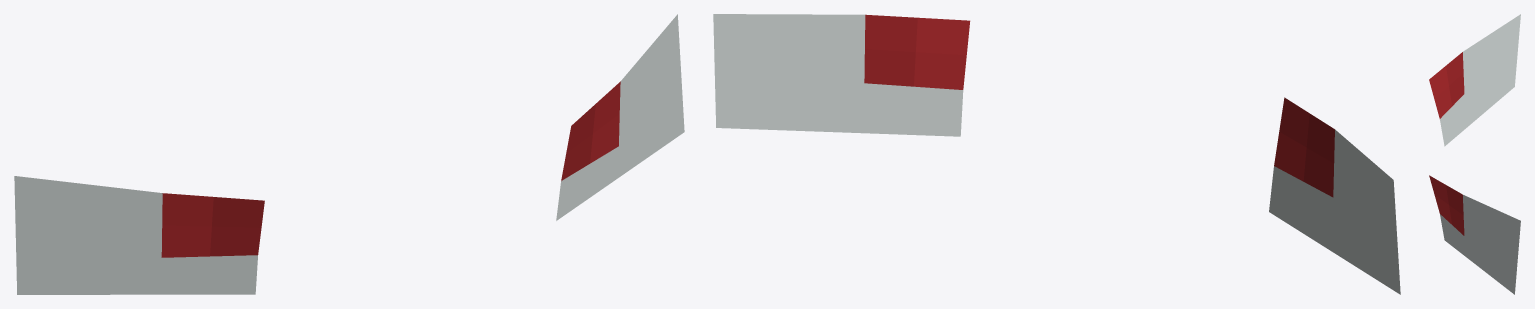
File: yeux_07.fbx
3 views of the same model, side by side, from view 1: azimuth 30°, elevation 25°; view 2: azimuth 150°, elevation 25°; view 3: azimuth 270°, elevation 25° (orthographic). The views are drawn at different scales.
Visible parts, largest first — view 1: Cube.001; view 2: Cube.001; view 3: Cube.001.
Boxes of the visible parts, x1,y1,x2,y2 form: Cube.001: [14, 14, 684, 294]; Cube.001: [713, 14, 1400, 294]; Cube.001: [1429, 14, 1520, 294].
Size of the model in its own units: 114 by 19.45 by 21.3.
